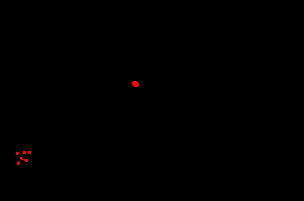Target: (132, 81, 139, 87), (24, 159, 28, 162), (17, 161, 20, 165), (23, 151, 26, 154), (28, 151, 31, 154), (16, 152, 19, 155), (20, 157, 23, 160)
